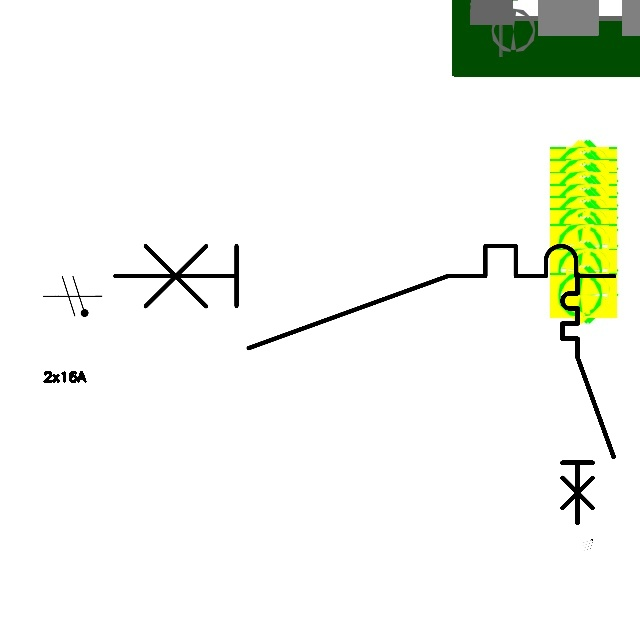interruptor_termomagnetico: (102, 233, 626, 361), (556, 268, 620, 529)
